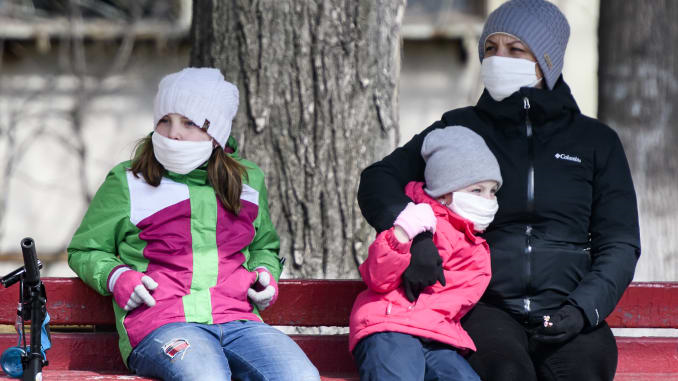mask_weared_incorrect: (148, 105, 220, 179)
with_mask: (479, 37, 540, 100), (447, 180, 502, 232)
